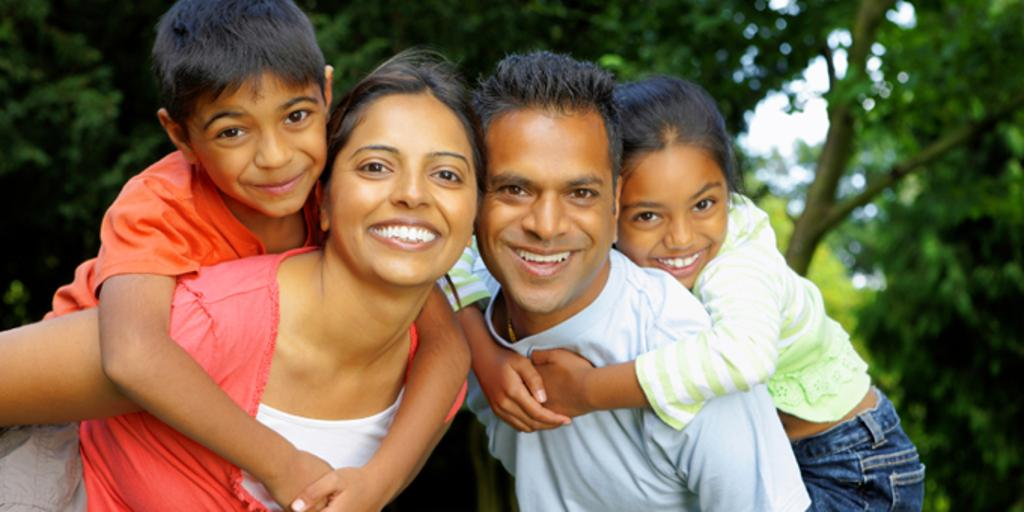face: (336, 88, 478, 288), (480, 102, 612, 314), (192, 66, 324, 218), (628, 148, 728, 296)
